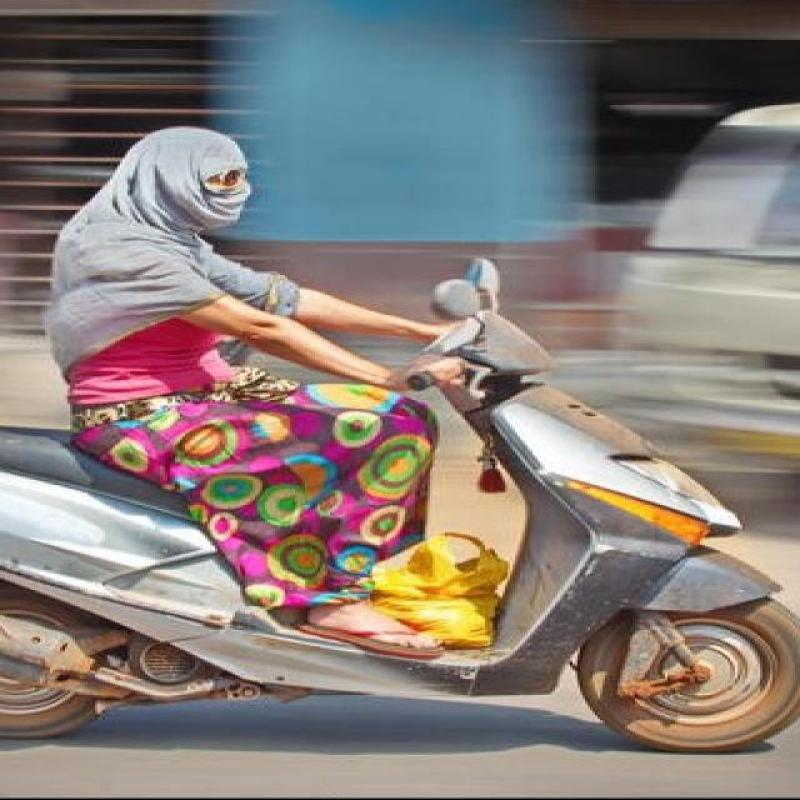nohelmet: (126, 127, 255, 242)
